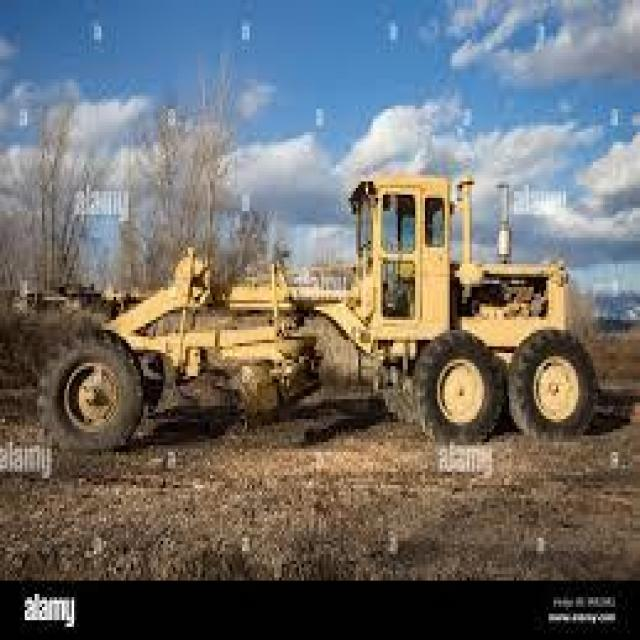Grader: (30, 165, 598, 485)
